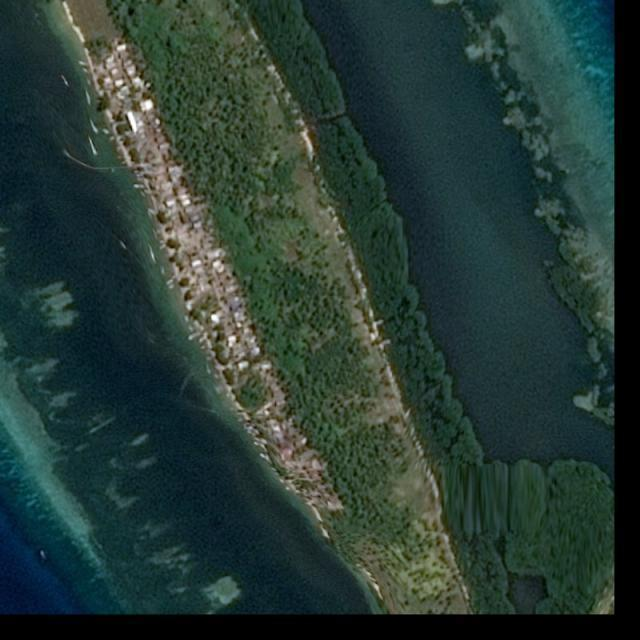ship: (38, 550, 47, 560)
